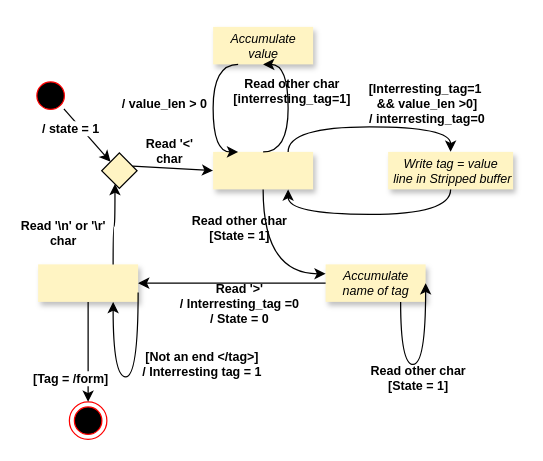
This 543x461 diagram has some shape labels left out. Here are the shapes that lost their labels. From the top down, the centre of each, then its label:
At (x=264, y=172): "Inside a tag".
At (x=88, y=284): "Tag finished".
